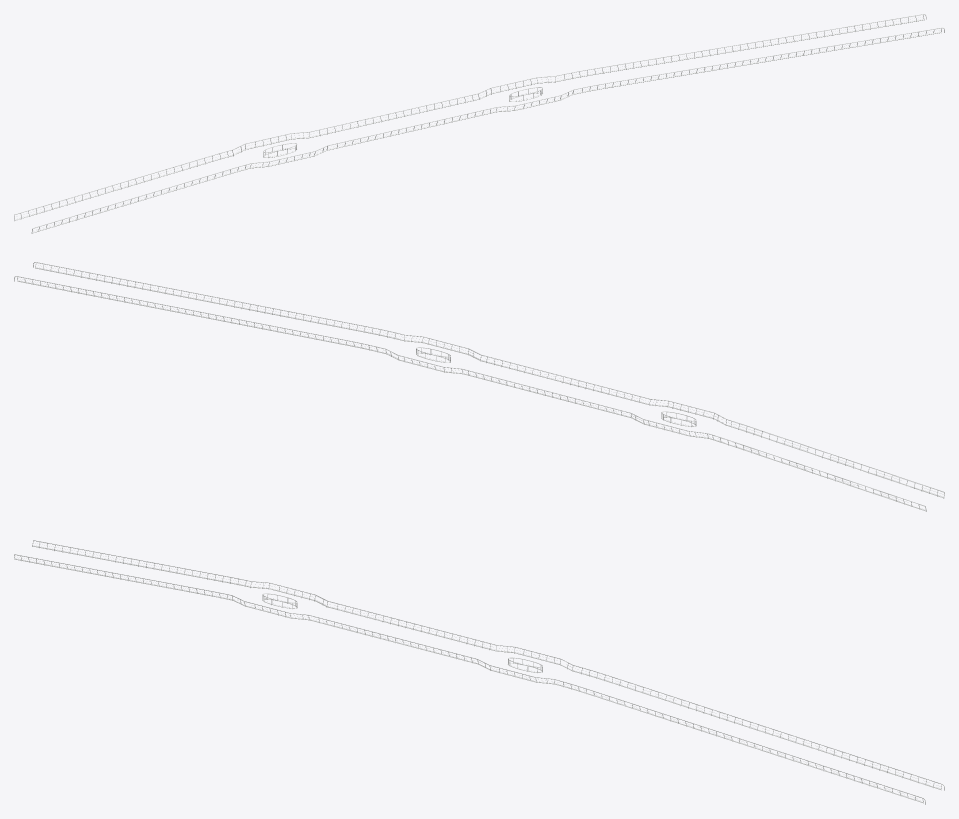
File: SM_Ponte_Parapetti_LOD1.fbx
3 views of the same model, one above another, from view 1: azimuth 30°, elevation 25°; view 2: azimuth 150°, elevation 25°; view 3: azimuth 330°, elevation 25° (orthographic). The views are drawn at different scales.
Parts seen in each view (by area): view 1: SM_Ponte_Parapetti_LOD1; view 2: SM_Ponte_Parapetti_LOD1; view 3: SM_Ponte_Parapetti_LOD1.
Boxes of the visible parts, bbox=[...] form: SM_Ponte_Parapetti_LOD1: bbox=[14, 14, 944, 233]; SM_Ponte_Parapetti_LOD1: bbox=[14, 262, 944, 511]; SM_Ponte_Parapetti_LOD1: bbox=[14, 540, 944, 804].
Size of the model in its own units: 17893 by 1169 by 541.
Materials: 2 (2 with a texture image).
